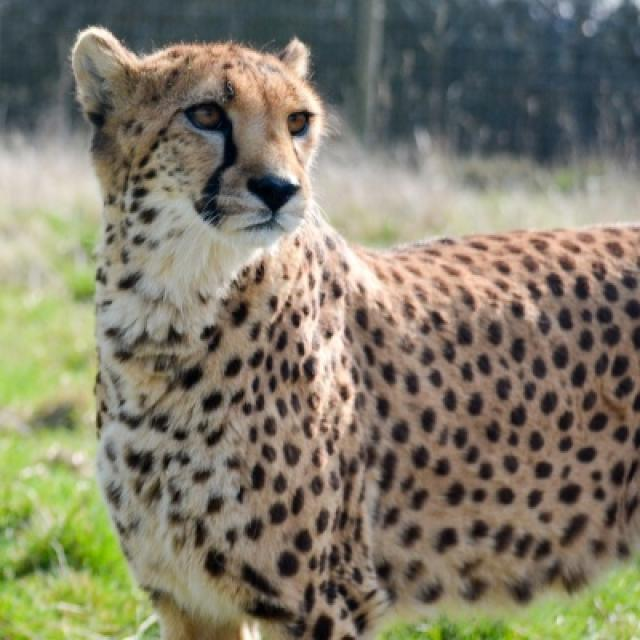Cheetah: (72, 27, 638, 638)
